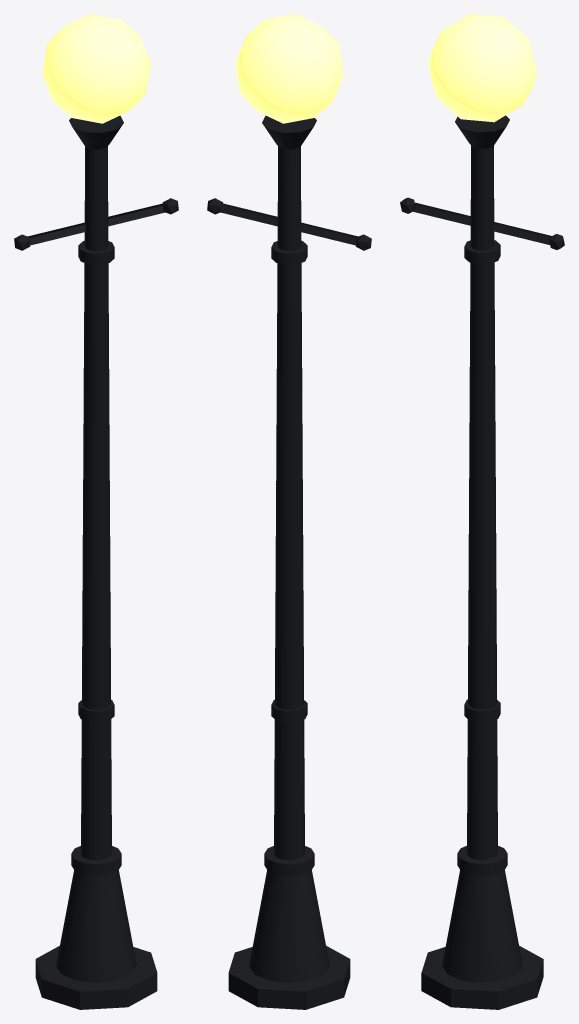
File: lamp_post.glb
3 renders of one model, left to right at view 1: azimuth 30°, elevation 25°; view 2: azimuth 150°, elevation 25°; view 3: azimuth 330°, elevation 25°, orthographic.
Parts seen in each view (by area): view 1: body, light; view 2: body, light; view 3: body, light.
Part boxes in pixels (x1,y1,x2,y2): body: [14, 115, 178, 1009]; light: [42, 14, 150, 123]; body: [207, 115, 371, 1009]; light: [235, 14, 343, 123]; body: [400, 115, 564, 1009]; light: [428, 14, 536, 122].
Bounding box in the file's own units: 0.7444 × 4.22 × 0.5.
